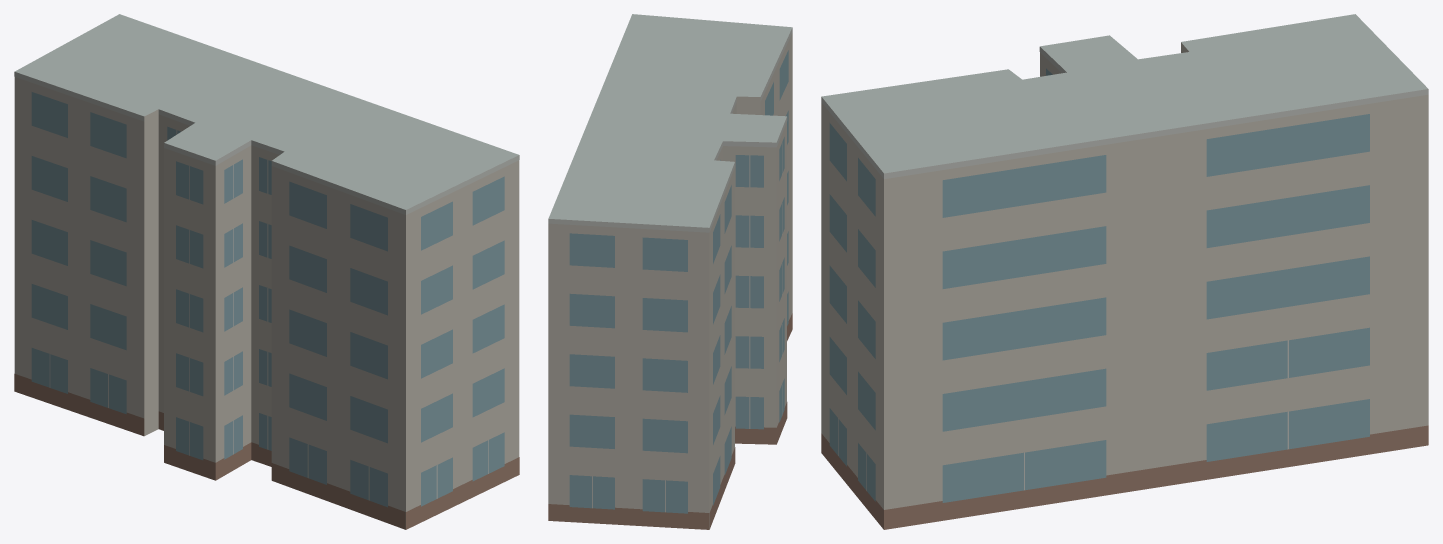
Rendered from survey-upis-33019148.glb.
The picture shows the model from 3 angles, left to right: view 1: azimuth 30°, elevation 25°; view 2: azimuth 150°, elevation 25°; view 3: azimuth 270°, elevation 25°; orthographic projection. The views are drawn at different scales.
Parts seen in each view (by area): view 1: survey-upis-33019148.tmp; view 2: survey-upis-33019148.tmp; view 3: survey-upis-33019148.tmp.
Boxes of the visible parts, x1=… form: survey-upis-33019148.tmp: x1=14, y1=14, x2=519, y2=529; survey-upis-33019148.tmp: x1=548, y1=14, x2=792, y2=529; survey-upis-33019148.tmp: x1=821, y1=14, x2=1428, y2=529.
Bounding box in the file's own units: 14.65 × 15.25 × 23.56.
